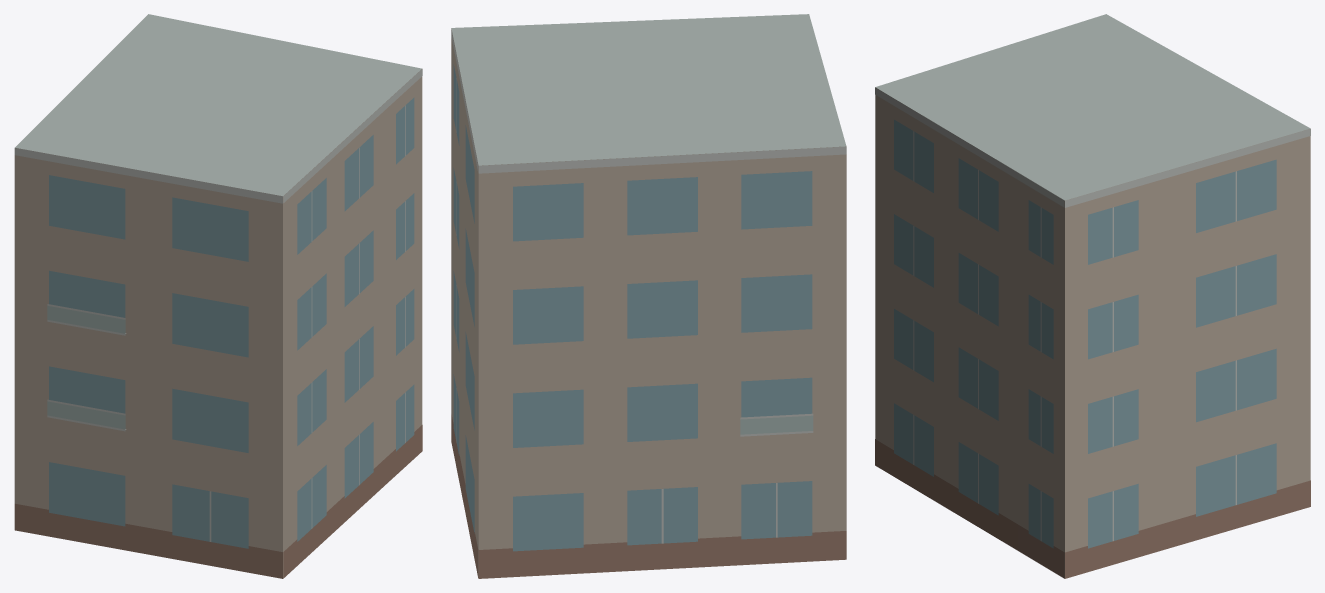
File: survey-upis-32606075.glb
3 renders of one model, left to right at view 1: azimuth 30°, elevation 25°; view 2: azimuth 150°, elevation 25°; view 3: azimuth 270°, elevation 25°, orthographic. The views are drawn at different scales.
Parts seen in each view (by area): view 1: survey-upis-32606075.tmp; view 2: survey-upis-32606075.tmp; view 3: survey-upis-32606075.tmp.
Part boxes in pixels (x1=…): survey-upis-32606075.tmp: x1=14, y1=14, x2=422, y2=578; survey-upis-32606075.tmp: x1=451, y1=14, x2=846, y2=578; survey-upis-32606075.tmp: x1=875, y1=14, x2=1310, y2=578.
Bounding box in the file's own units: 13.23 × 12.5 × 13.06.
